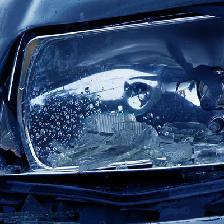broken_light: (10, 27, 224, 199)
